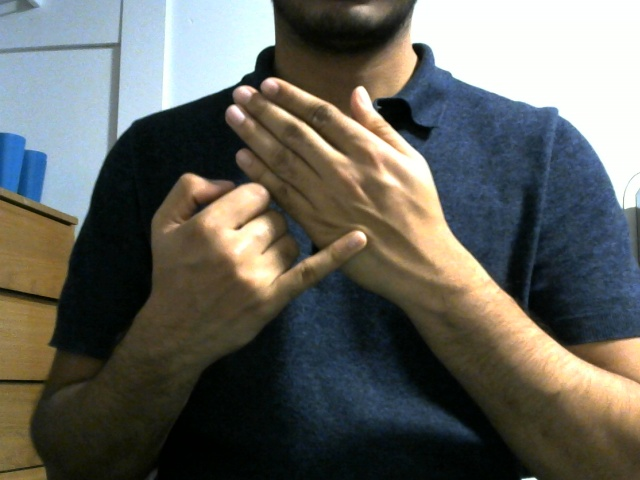Project: (138, 78, 479, 344)
